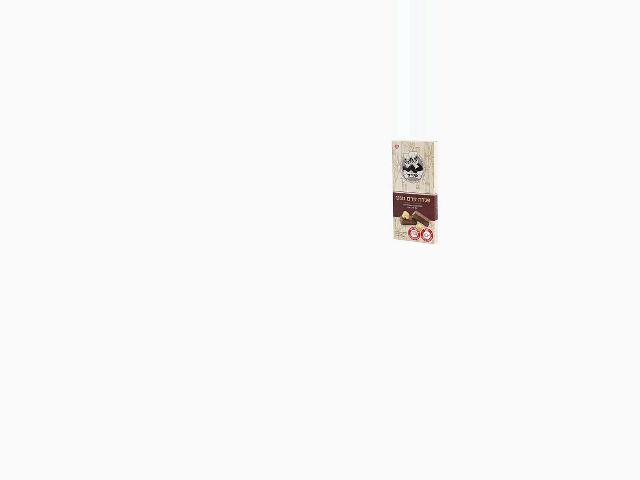chocolate: (390, 140, 445, 245)
